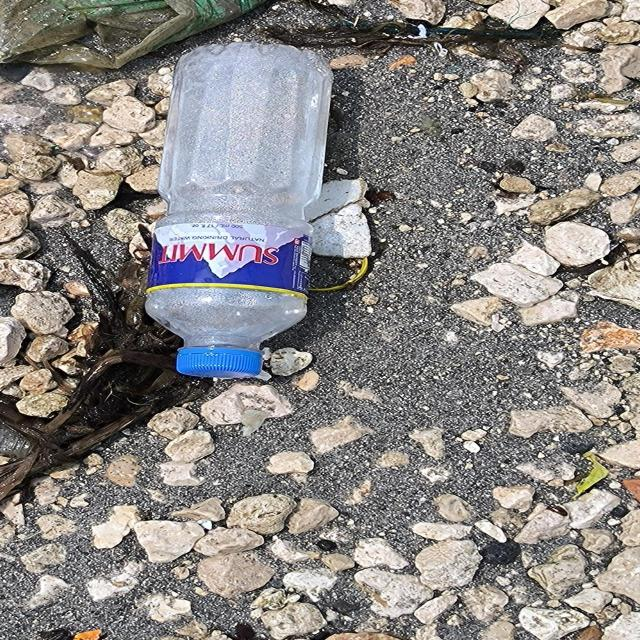plastic_waste: (147, 44, 334, 376)
